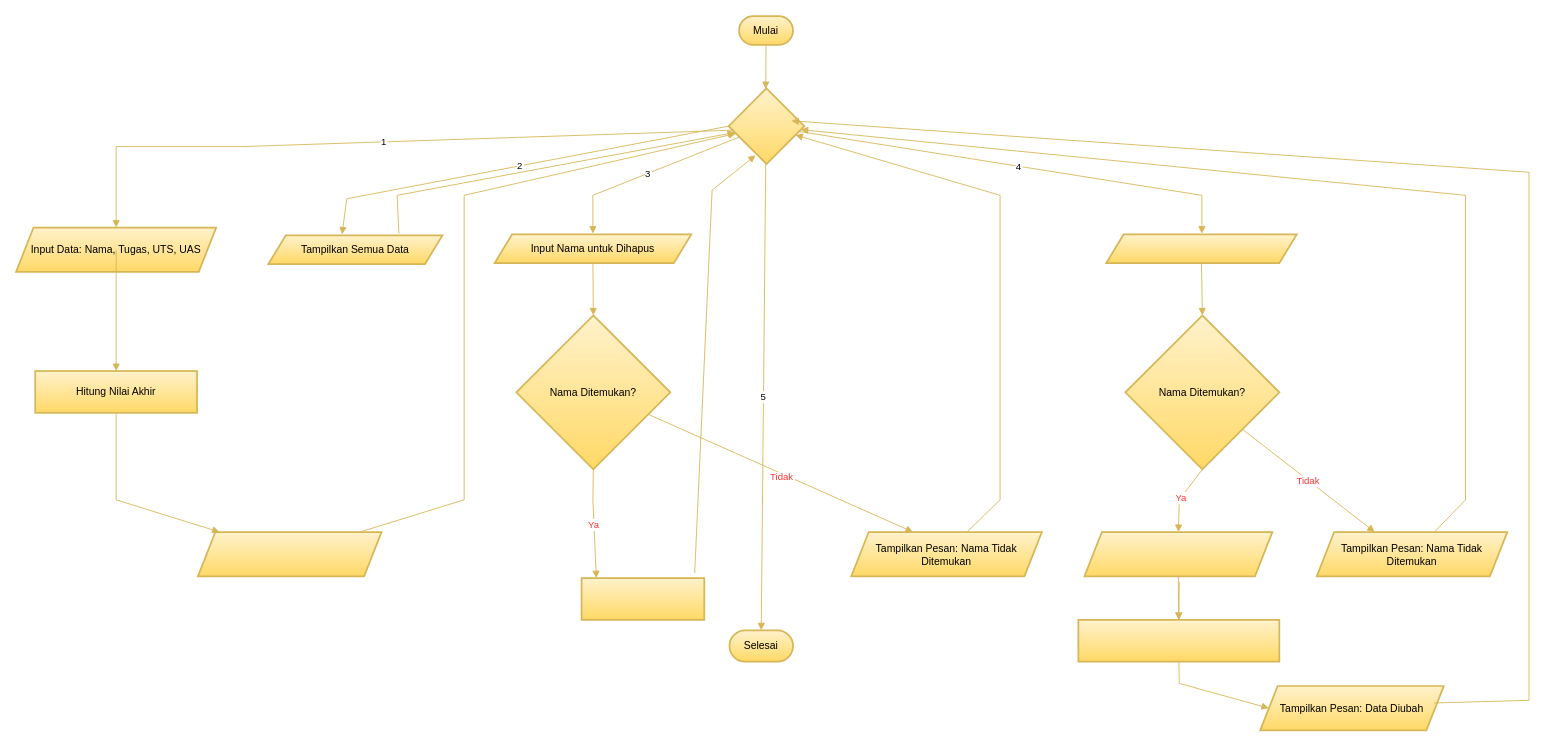
This 1551x746 diagram has some shape labels left out. Each missing label, with the centre of its shape:
Hapus Data: the point at 642,598
Hitung Ulang Nilai Akhir: the point at 1178,640
Input Data Baru: Tugas, UTS, UAS: the point at 1178,554
Input Nama untuk Diubah: the point at 1201,248
Menu: the point at 766,125
Tampilkan Pesan: Data Ditambahkan: the point at 289,554
